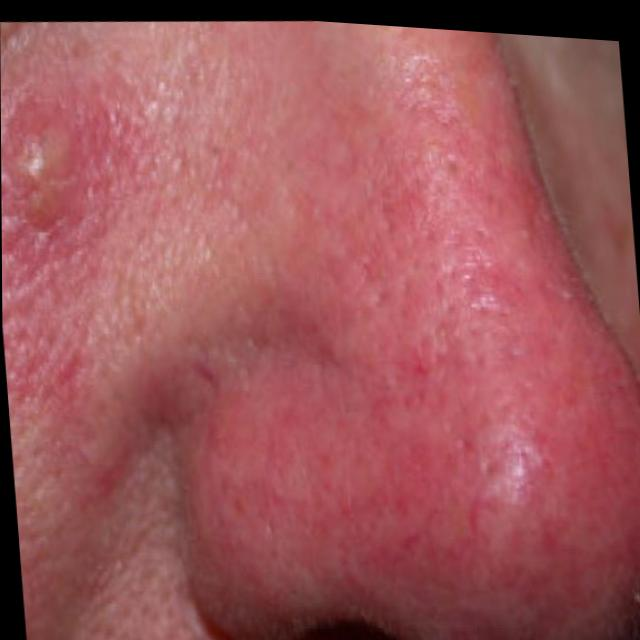Rosacea: (0, 45, 640, 622)
